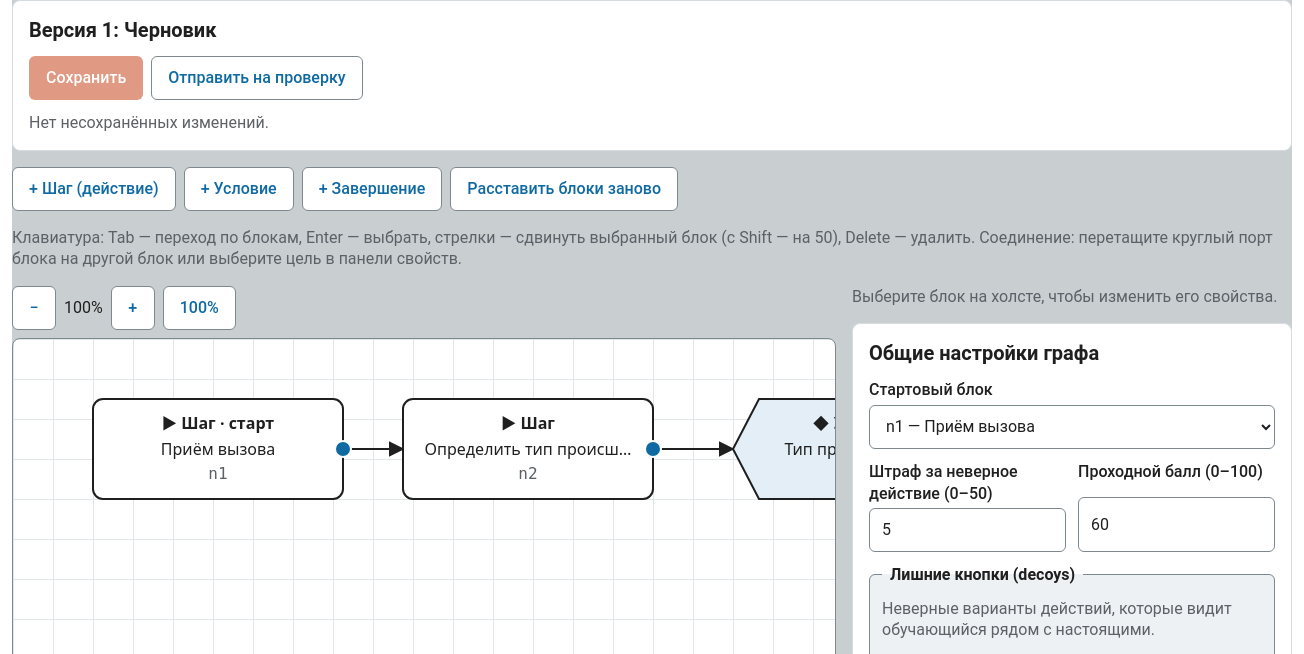
Test: ScenarioGraphEditor: процесс версий и права › «Сохранить» создаёт новую версию с графом и сбрасывает признак несохранённых изменений
expect the button "Сохранить" is disabled: met, box [29,56,143,100]
Click the button "+ Шаг (действие)". click: (94, 189)
box: [12,167,176,211]
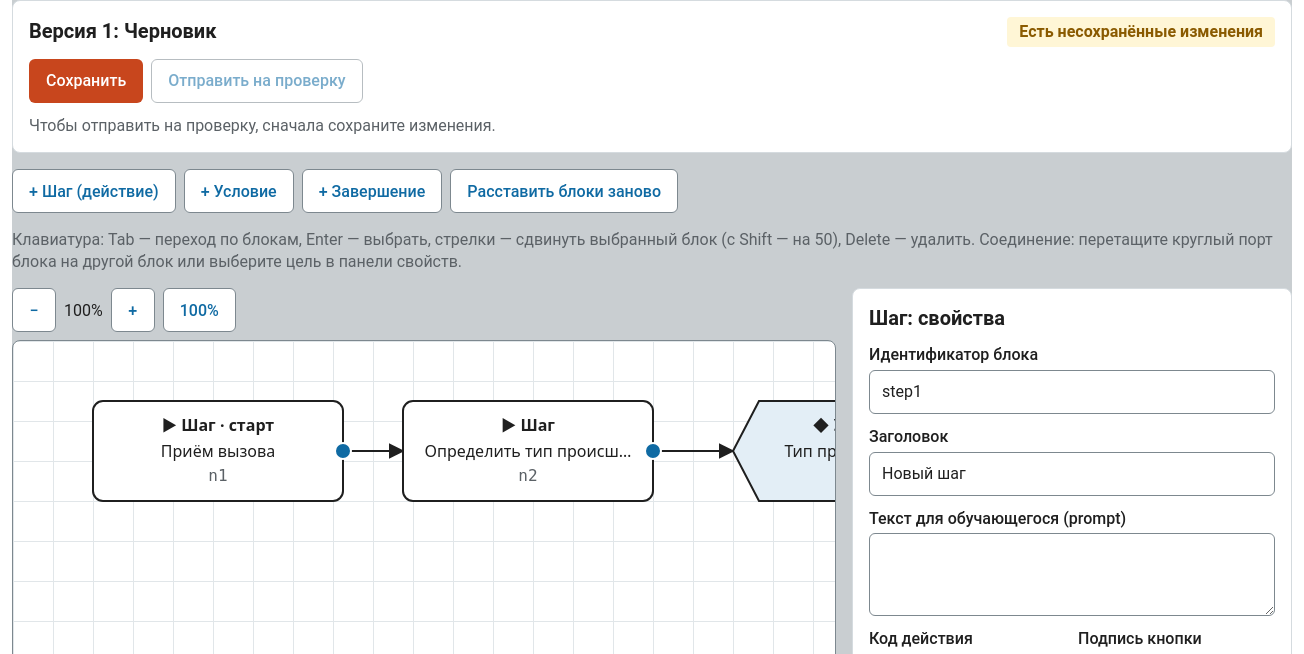
expect the text "Есть несохранённые изменения" is shown: met, box [1007,17,1275,47]
Click the button "Сохранить". click: (86, 81)
box: [29,59,143,103]
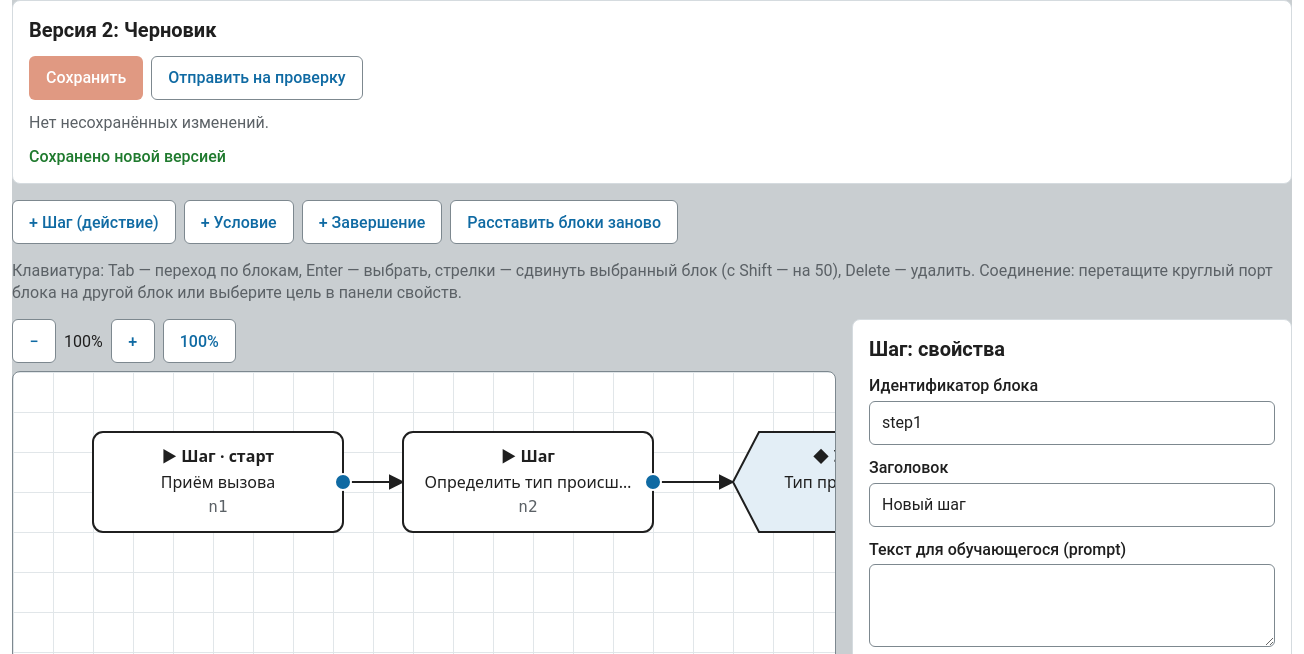
expect the text "Сохранено новой версией" is shown: met, box [29,147,226,166]
expect the text "Есть несохранённые изменения" is gone: met
expect the heading "Версия 2: Черновик" is shown: met, box [29,17,216,44]
